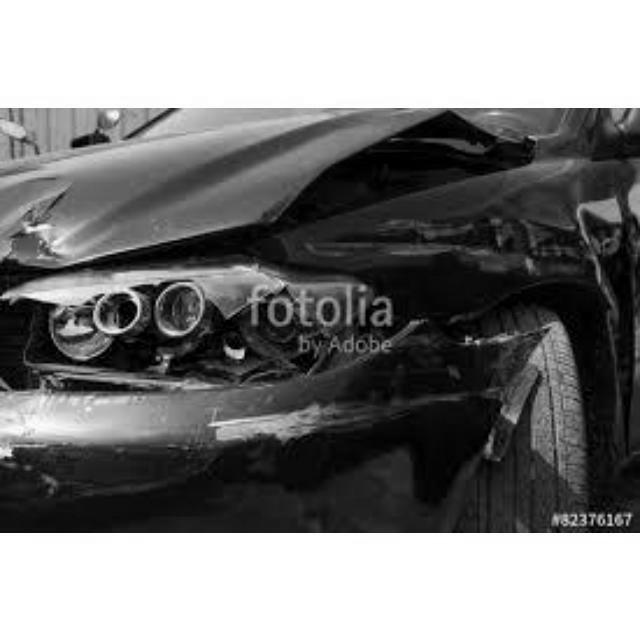Headlight-damage: (1, 243, 364, 422)
bonnet-dent: (24, 117, 503, 221)
front-bumper-dent: (106, 342, 501, 530)
